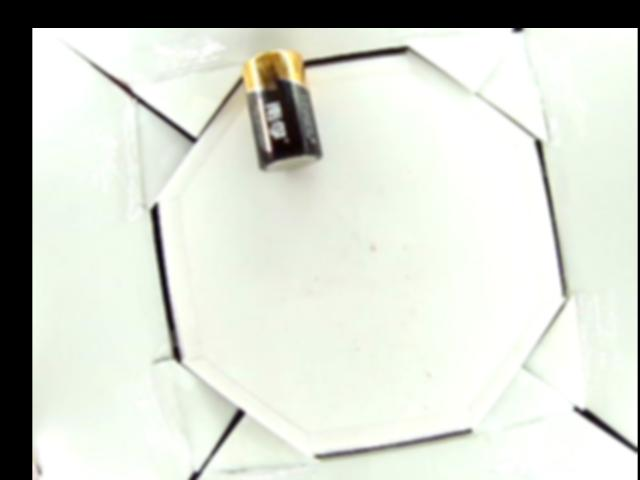Battery: (240, 47, 320, 171)
